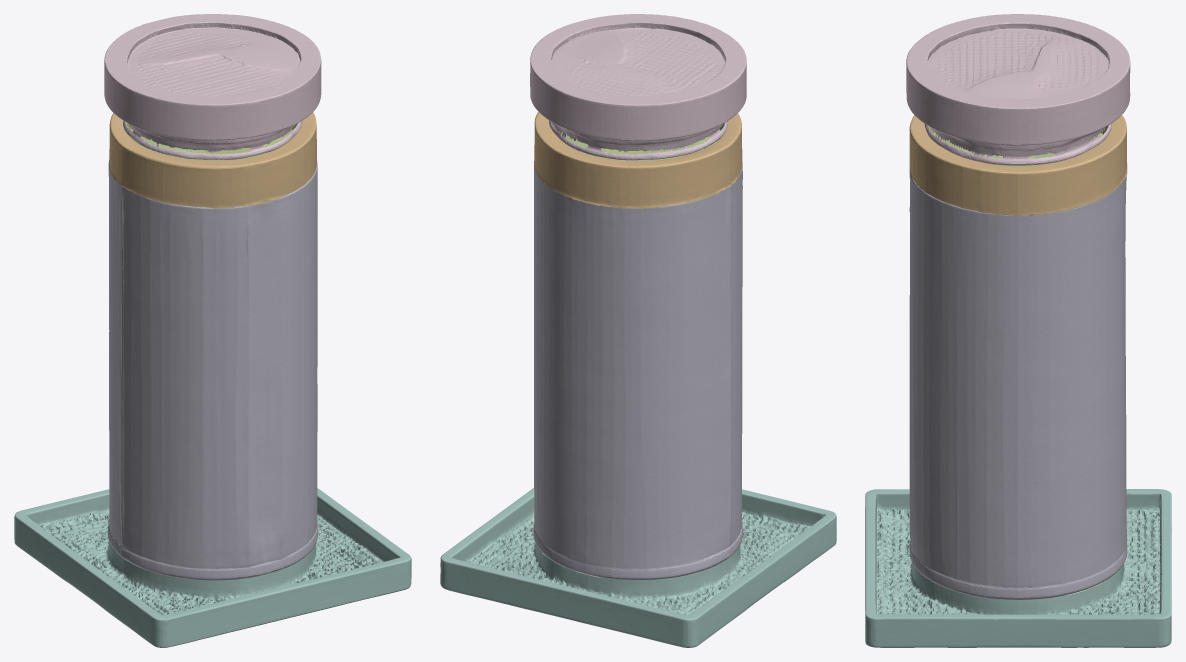
File: markmate_optimized.glb
The picture shows the model from 3 angles, left to right: view 1: azimuth 30°, elevation 25°; view 2: azimuth 150°, elevation 25°; view 3: azimuth 270°, elevation 25°; orthographic projection. The views are drawn at different scales.
Visible parts, largest first — view 1: geometry_0; view 2: geometry_0; view 3: geometry_0.
Boxes of the visible parts, bbox=[...] form: geometry_0: bbox=[14, 14, 411, 647]; geometry_0: bbox=[440, 14, 836, 647]; geometry_0: bbox=[865, 14, 1171, 647].
Bounding box in the file's own units: 0.5309 × 1 × 0.5304.
